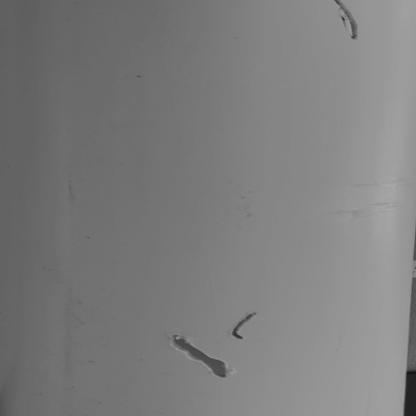fengxi: (172, 335, 228, 379), (332, 1, 360, 40), (228, 311, 261, 340)
